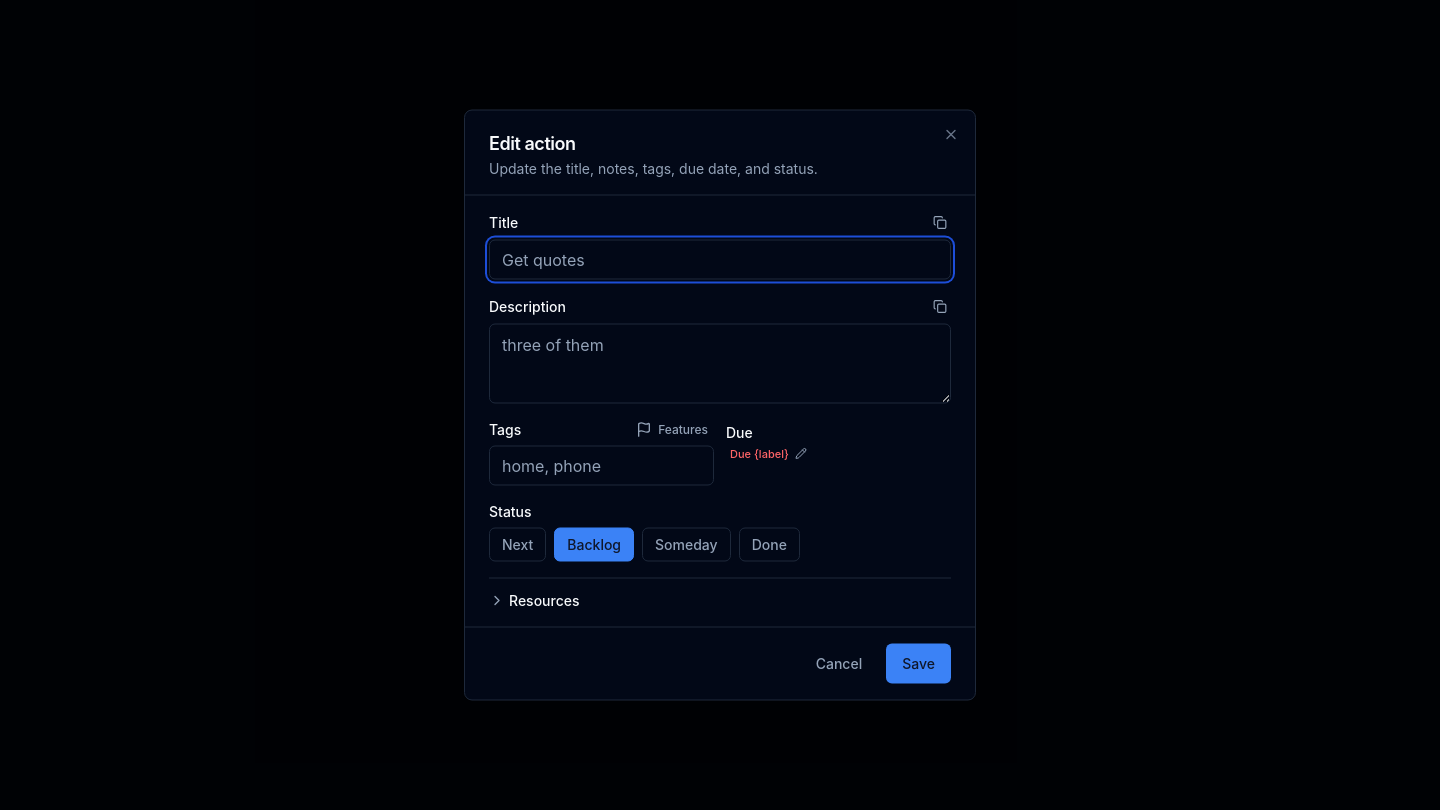
Scenario: ActionDialog › seeds the fields from the node
Expected: the field labelled "Title" holds "Get quotes", x1=489 y1=240 x2=951 y2=280
Expected: the text box labelled "Description" holds "three of them", x1=489 y1=324 x2=951 y2=404
Step 1. Click the button "Due {label}" → (768, 454), box x1=726 y1=444 x2=811 y2=464
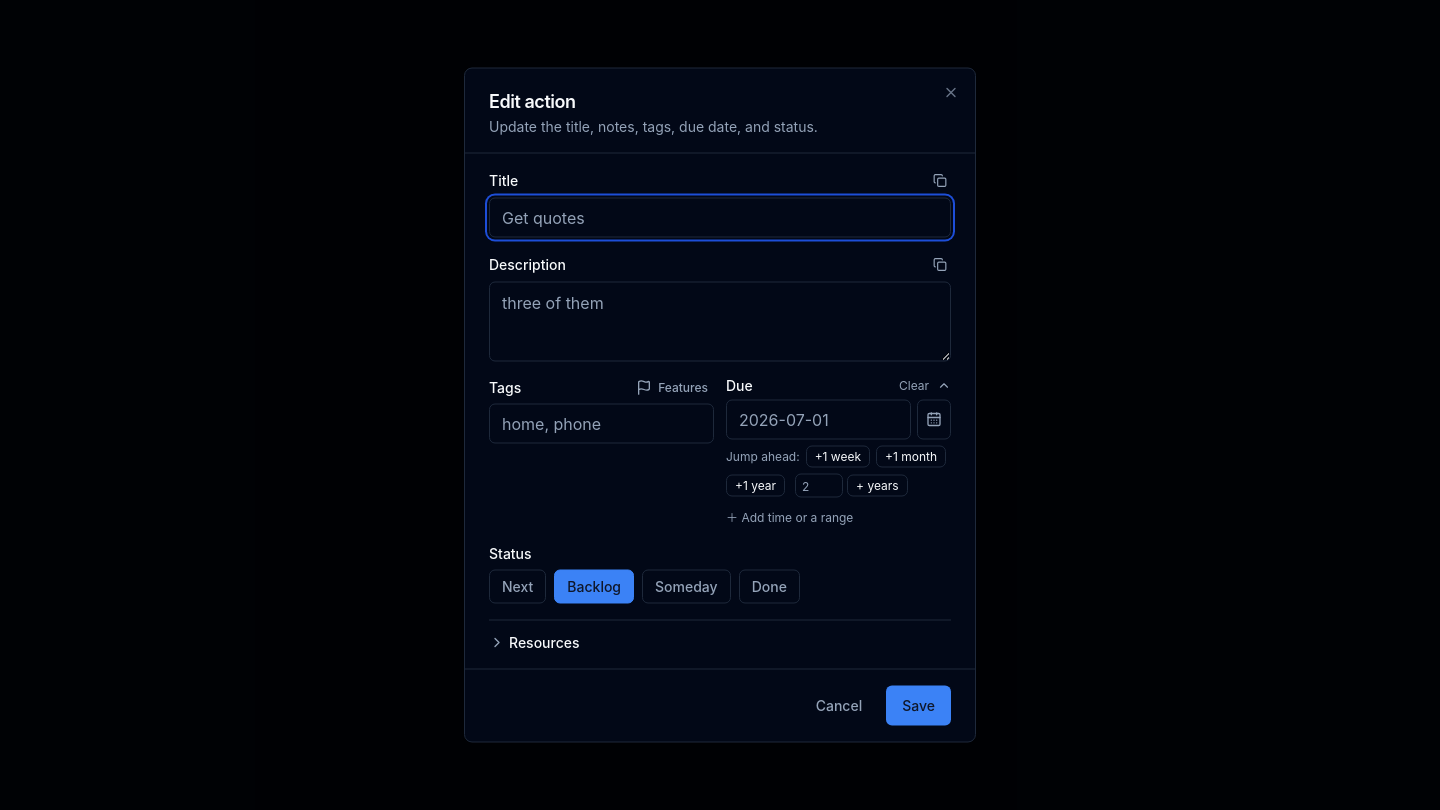
Expected: the field labelled "Due" holds "2026-07-01", x1=726 y1=400 x2=911 y2=440
